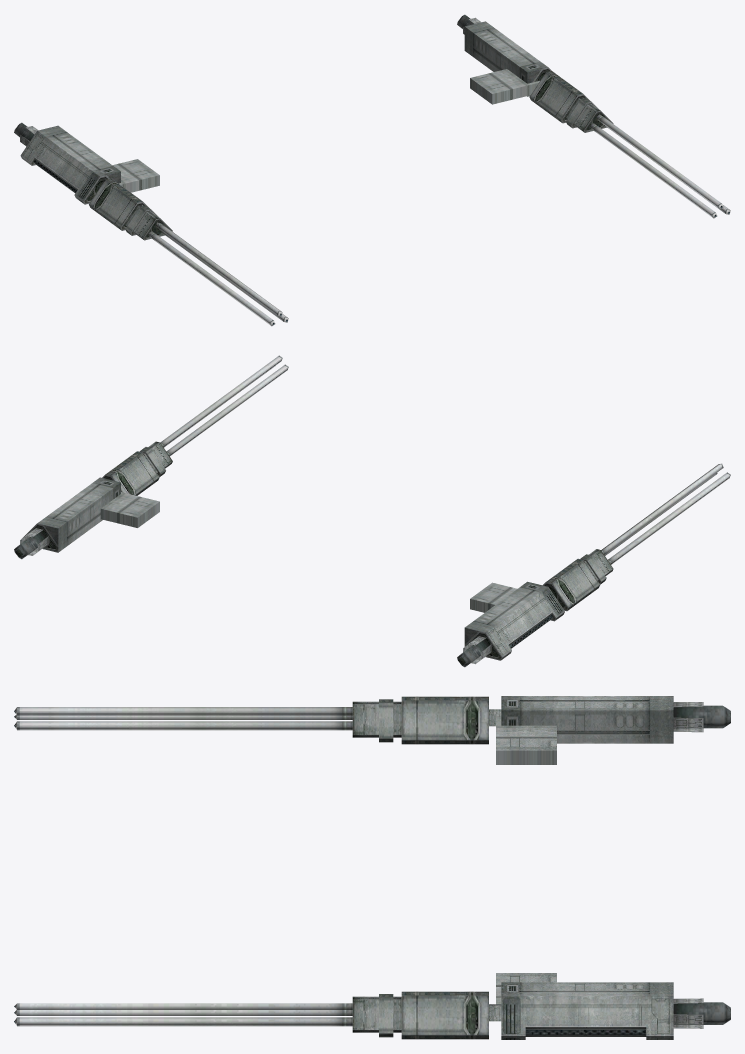
Rendered from awing_weapon_s04_l1.fbx.
3 views of the same model, one above another, from view 1: azimuth 30°, elevation 25°; view 2: azimuth 150°, elevation 25°; view 3: azimuth 270°, elevation 25° (orthographic). The views are drawn at different scales.
Visible parts, largest first — view 1: mesh_node; view 2: mesh_node; view 3: mesh_node.
Part boxes in pixels (box(x1,y1,x2,y2)): mesh_node: box(14, 14, 730, 326); mesh_node: box(14, 355, 730, 667); mesh_node: box(14, 696, 730, 1039).
Size of the model in its own units: 9.73 by 0.4698 by 9.14.
